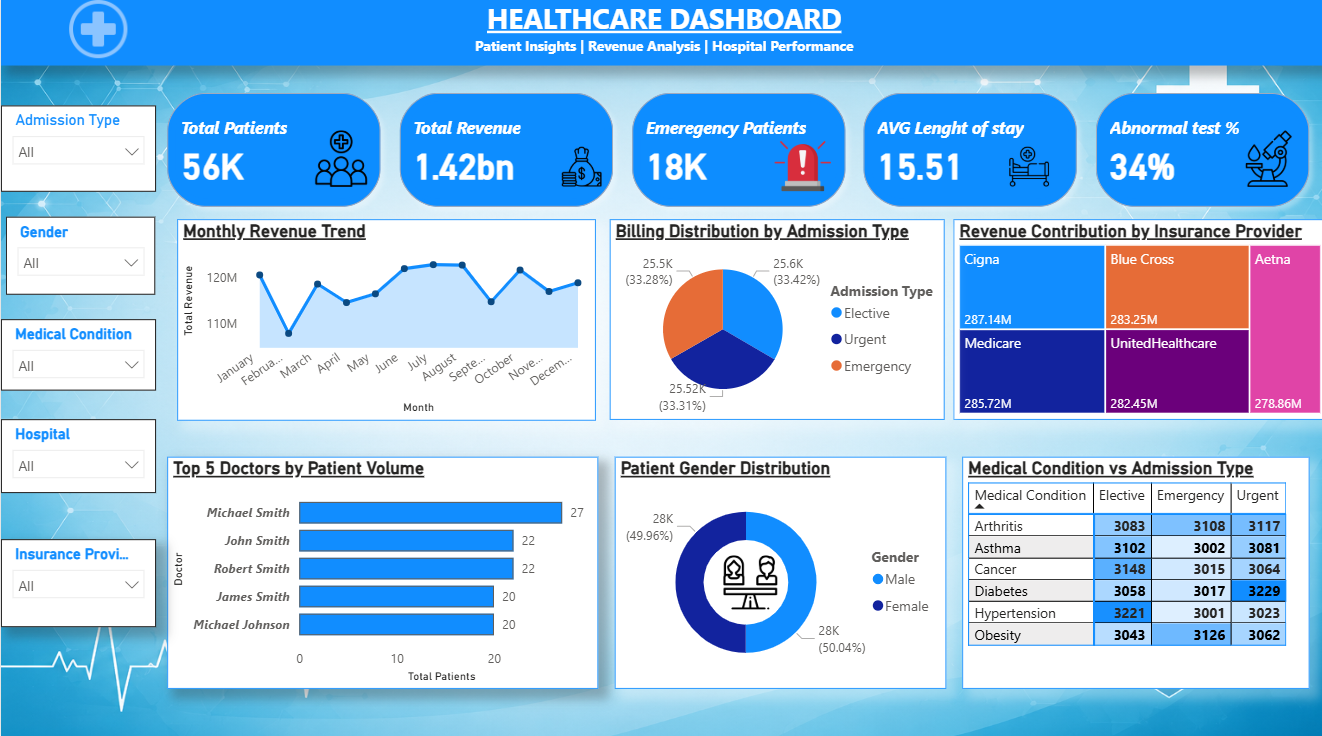

This screenshot's page, from the dashboard's own definition file:
{"tool":"powerbi","page":{"name":"Page 1","canvas":[1280,720],"ordinal":0},"visuals":[{"type":"textbox","box":[0,1.3,1280.3,68.7],"z":0},{"type":"cardVisual","fields":{"Data":["healthcare_dataset.Total Patients"]},"box":[144,80,240,144],"z":1000},{"type":"cardVisual","fields":{"Data":["healthcare_dataset.Total Revenue"]},"box":[368,80,240,144],"z":2000},{"type":"cardVisual","fields":{"Data":["healthcare_dataset.Emeregency Patients"]},"box":[592,80,240,144],"z":3000},{"type":"cardVisual","fields":{"Data":["healthcare_dataset.AVG Lenght of stay"]},"box":[816,80,240,144],"z":4000},{"type":"cardVisual","fields":{"Data":["healthcare_dataset.Abnormal test %"]},"box":[1040,80,240,144],"z":5000},{"type":"lineChart","title":"Monthly Revenue Trend","fields":{"Y":["healthcare_dataset.Total Revenue"],"Category":["healthcare_dataset.Date of Admission.Variation.Date Hierarchy.Month"]},"box":[170,218.6,404.3,194.3],"z":6000},{"type":"treemap","title":"Revenue Contribution by Insurance Provider","fields":{"Group":["healthcare_dataset.Insurance Provider"],"Values":["healthcare_dataset.Total Revenue"]},"box":[919.5,218.1,360.8,193.9],"z":7000},{"type":"pivotTable","title":"Medical Condition vs Admission Type","fields":{"Rows":["healthcare_dataset.Medical Condition"],"Columns":["healthcare_dataset.Admission Type"],"Values":["healthcare_dataset.Total Patients"]},"box":[927.8,447.6,335.4,224.4],"z":8000},{"type":"barChart","title":"Top 5 Doctors by Patient Volume","fields":{"Category":["healthcare_dataset.Doctor"],"Y":["healthcare_dataset.Total Patients"]},"box":[160,448,416,224],"z":9000},{"type":"donutChart","title":"Patient Gender Distribution","fields":{"Category":["healthcare_dataset.Gender"],"Y":["healthcare_dataset.Total Patients"]},"box":[592,448,320,224],"z":10000},{"type":"pieChart","title":"Billing Distribution by Admission Type","fields":{"Category":["healthcare_dataset.Admission Type"],"Y":["Avg(healthcare_dataset.Billing Amount)"]},"box":[587,218.1,323.1,193.9],"z":11000},{"type":"slicer","fields":{"Values":["healthcare_dataset.Gender"]},"box":[5.4,215.4,144,75.4],"z":12000},{"type":"slicer","fields":{"Values":["healthcare_dataset.Medical Condition"]},"box":[0,315,149.4,68.7],"z":13000},{"type":"slicer","fields":{"Values":["healthcare_dataset.Hospital"]},"box":[0,411.9,149.4,71.4],"z":14000},{"type":"slicer","fields":{"Values":["healthcare_dataset.Admission Type"]},"box":[0,108.6,149.6,83.2],"z":15000},{"type":"slicer","fields":{"Values":["healthcare_dataset.Insurance Provider"]},"box":[0,527.2,149.6,84.5],"z":16000},{"type":"image","box":[288,128,80,64],"z":17000},{"type":"image","box":[1184,128,80,64],"z":18000},{"type":"image","box":[960,144,64,48],"z":19000},{"type":"image","box":[715.4,135.1,117,63.9],"z":20000},{"type":"image","box":[528,144,64,48],"z":21000},{"type":"image","box":[56.5,0,74,70],"z":22000},{"type":"image","box":[682.8,538.1,80.8,61.5],"z":22001}]}

Visuals, with their boxes in screenshot pixels (x1, y1, x2, y2), scaled from the page's 1280x720 canvas onto the 1322x736 screenshot:
textbox: {"x1": 0, "y1": 1, "x2": 1321, "y2": 72}
cardVisual - healthcare_dataset.Total Patients: {"x1": 149, "y1": 82, "x2": 397, "y2": 229}
cardVisual - healthcare_dataset.Total Revenue: {"x1": 380, "y1": 82, "x2": 628, "y2": 229}
cardVisual - healthcare_dataset.Emeregency Patients: {"x1": 611, "y1": 82, "x2": 859, "y2": 229}
cardVisual - healthcare_dataset.AVG Lenght of stay: {"x1": 843, "y1": 82, "x2": 1091, "y2": 229}
cardVisual - healthcare_dataset.Abnormal test %: {"x1": 1074, "y1": 82, "x2": 1321, "y2": 229}
"Monthly Revenue Trend" lineChart: {"x1": 176, "y1": 223, "x2": 593, "y2": 422}
"Revenue Contribution by Insurance Provider" treemap: {"x1": 950, "y1": 223, "x2": 1321, "y2": 421}
"Medical Condition vs Admission Type" pivotTable: {"x1": 958, "y1": 458, "x2": 1305, "y2": 687}
"Top 5 Doctors by Patient Volume" barChart: {"x1": 165, "y1": 458, "x2": 595, "y2": 687}
"Patient Gender Distribution" donutChart: {"x1": 611, "y1": 458, "x2": 942, "y2": 687}
"Billing Distribution by Admission Type" pieChart: {"x1": 606, "y1": 223, "x2": 940, "y2": 421}
slicer - healthcare_dataset.Gender: {"x1": 6, "y1": 220, "x2": 154, "y2": 297}
slicer - healthcare_dataset.Medical Condition: {"x1": 0, "y1": 322, "x2": 154, "y2": 392}
slicer - healthcare_dataset.Hospital: {"x1": 0, "y1": 421, "x2": 154, "y2": 494}
slicer - healthcare_dataset.Admission Type: {"x1": 0, "y1": 111, "x2": 155, "y2": 196}
slicer - healthcare_dataset.Insurance Provider: {"x1": 0, "y1": 539, "x2": 155, "y2": 625}
image: {"x1": 297, "y1": 131, "x2": 380, "y2": 196}
image: {"x1": 1223, "y1": 131, "x2": 1305, "y2": 196}
image: {"x1": 991, "y1": 147, "x2": 1058, "y2": 196}
image: {"x1": 739, "y1": 138, "x2": 860, "y2": 203}
image: {"x1": 545, "y1": 147, "x2": 611, "y2": 196}
image: {"x1": 58, "y1": 0, "x2": 135, "y2": 72}
image: {"x1": 705, "y1": 550, "x2": 789, "y2": 613}
